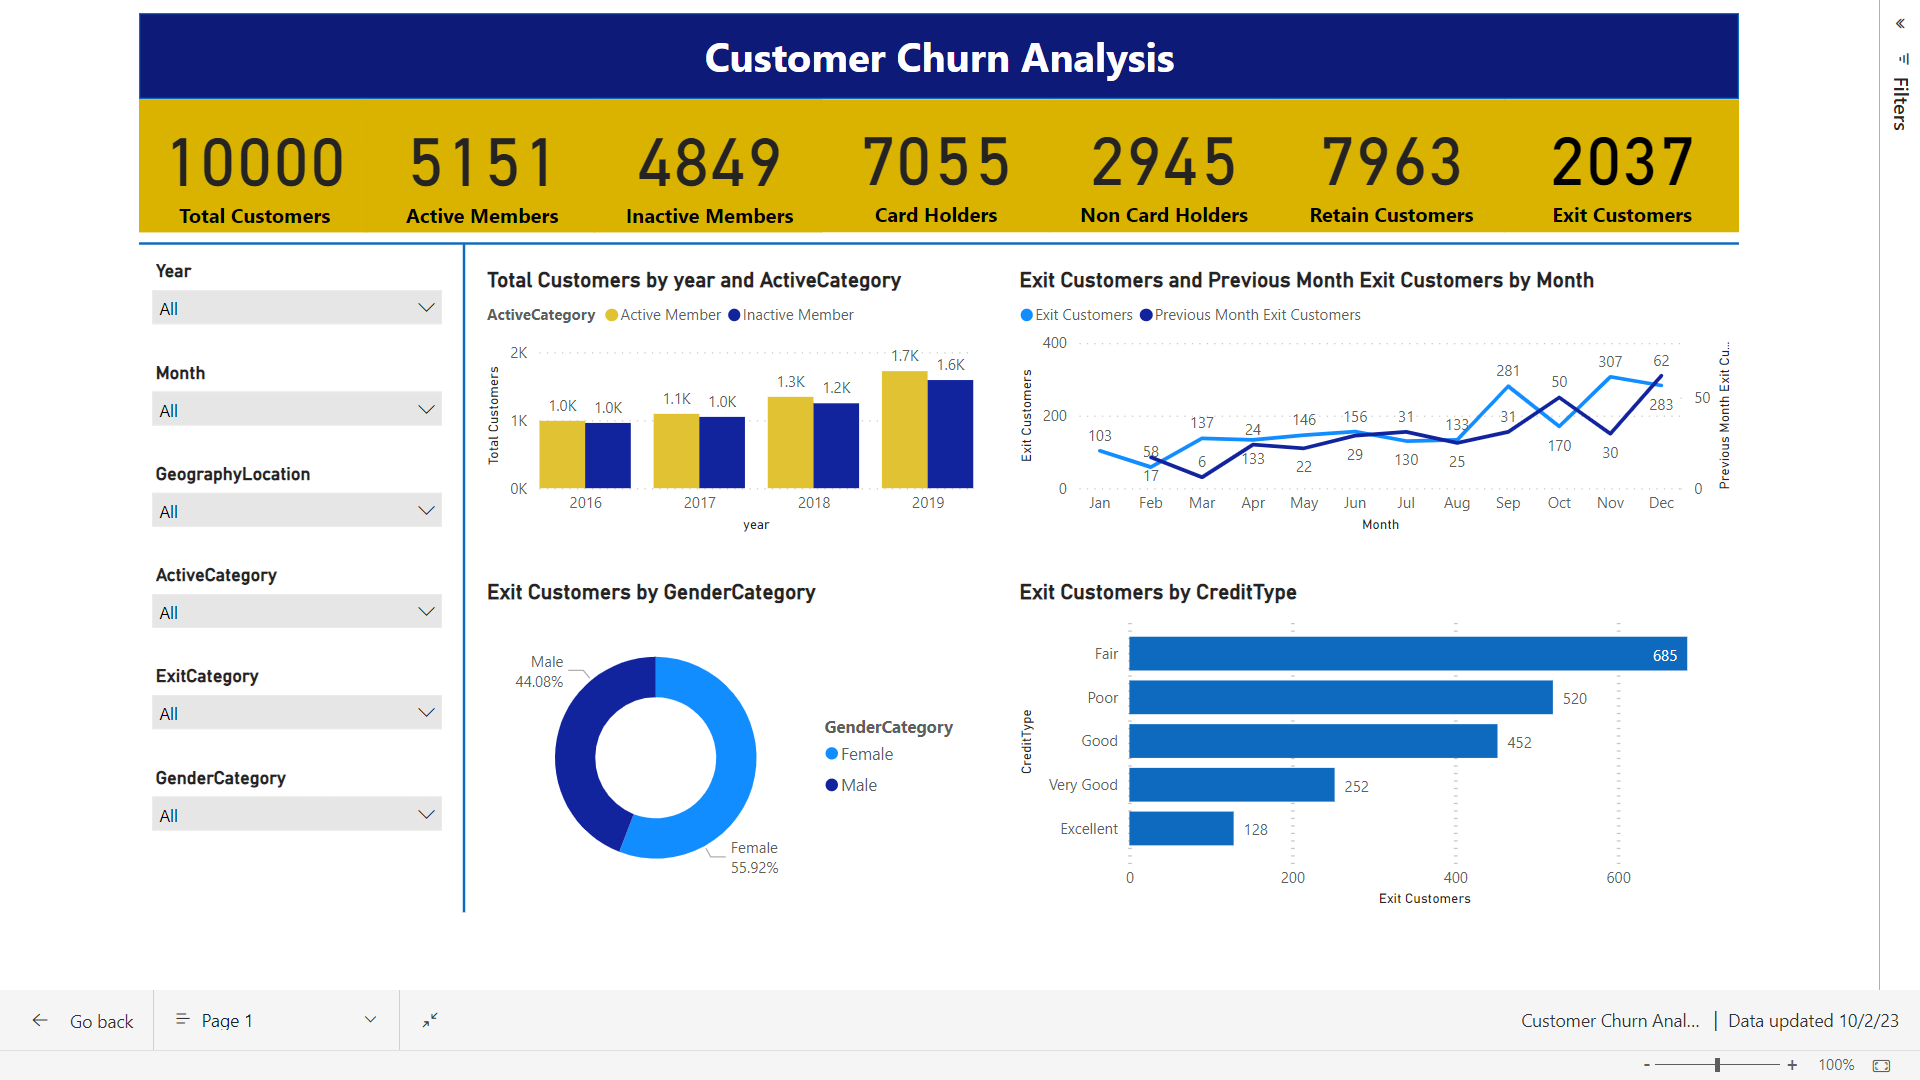

The dashboard page shown, as its layout file describes it:
{"tool":"powerbi","page":{"name":"Page 1","canvas":[1280,720],"ordinal":0},"visuals":[{"type":"card","fields":{"Values":["Calculations.Total Customers"]},"box":[0,69.1,182.4,107.3],"z":0},{"type":"card","fields":{"Values":["Calculations.Active Members"]},"box":[182.4,69.1,181.2,107.3],"z":1000},{"type":"card","fields":{"Values":["Calculations.Inactive Members"]},"box":[363.6,69.1,182.4,107.3],"z":2000},{"type":"shape","box":[0,0,1280.2,69.1],"z":3000},{"type":"card","fields":{"Values":["Calculations.Card Holders"]},"box":[545.9,69.1,182.4,107.3],"z":4000},{"type":"card","fields":{"Values":["Calculations.Non Card Holders"]},"box":[728.3,69.1,182.4,107.3],"z":5000},{"type":"card","fields":{"Values":["Calculations.Exit Customers"]},"box":[1091.9,69.1,188.3,107.3],"z":6000},{"type":"card","fields":{"Values":["Calculations.Retain Customers"]},"box":[910.7,69.1,181.2,107.3],"z":7000},{"type":"shape","box":[0,176.4,1280.2,16.7],"z":8000},{"type":"shape","box":[0,184.8,519.7,535.2],"z":9000},{"type":"slicer","fields":{"Values":["DateMaster.year"]},"box":[0,193.1,251.5,81.1],"z":10000},{"type":"slicer","fields":{"Values":["DateMaster.month_name"]},"box":[0,274.2,251.5,81.1],"z":11000},{"type":"slicer","fields":{"Values":["Geography.GeographyLocation"]},"box":[0,355.2,251.5,81.1],"z":12000},{"type":"slicer","fields":{"Values":["ActiveCustomer.ActiveCategory"]},"box":[0,436.3,251.5,81.1],"z":13000},{"type":"slicer","fields":{"Values":["ExitCustomer.ExitCategory"]},"box":[0,517.3,251.5,81.1],"z":14000},{"type":"slicer","fields":{"Values":["Gender.GenderCategory"]},"box":[0,598.4,251.5,81.1],"z":15000},{"type":"clusteredColumnChart","fields":{"Category":["DateMaster.year","DateMaster.month_name"],"Y":["Calculations.Total Customers"],"Series":["ActiveCustomer.ActiveCategory"]},"box":[273,202.6,399.3,216.9],"z":16000},{"type":"lineChart","fields":{"Category":["DateMaster.month_name"],"Y2":["Calculations.Previous Month Exit Customers"],"Y":["Calculations.Exit Customers"]},"box":[698.5,202.6,581.7,216.9],"z":16001},{"type":"donutChart","fields":{"Y":["Calculations.Exit Customers"],"Category":["Gender.GenderCategory"]},"box":[273,453,399.3,267],"z":16002},{"type":"clusteredBarChart","fields":{"Y":["Calculations.Exit Customers"],"Category":["Bank_Churn.CreditType"]},"box":[698.5,453,581.7,267],"z":16003}]}

Visuals, with their boxes on the page's 1280x720 design canvas (x1, y1, x2, y2). These are canvas units, not pixel positions in the 1920x1080 screenshot, which may show the page scaled, cropped or inside an application window:
card - Calculations.Total Customers: x1=0, y1=69, x2=182, y2=176
card - Calculations.Active Members: x1=182, y1=69, x2=364, y2=176
card - Calculations.Inactive Members: x1=364, y1=69, x2=546, y2=176
shape: x1=0, y1=0, x2=1280, y2=69
card - Calculations.Card Holders: x1=546, y1=69, x2=728, y2=176
card - Calculations.Non Card Holders: x1=728, y1=69, x2=911, y2=176
card - Calculations.Exit Customers: x1=1092, y1=69, x2=1280, y2=176
card - Calculations.Retain Customers: x1=911, y1=69, x2=1092, y2=176
shape: x1=0, y1=176, x2=1280, y2=193
shape: x1=0, y1=185, x2=520, y2=720
slicer - DateMaster.year: x1=0, y1=193, x2=252, y2=274
slicer - DateMaster.month_name: x1=0, y1=274, x2=252, y2=355
slicer - Geography.GeographyLocation: x1=0, y1=355, x2=252, y2=436
slicer - ActiveCustomer.ActiveCategory: x1=0, y1=436, x2=252, y2=517
slicer - ExitCustomer.ExitCategory: x1=0, y1=517, x2=252, y2=598
slicer - Gender.GenderCategory: x1=0, y1=598, x2=252, y2=680
clusteredColumnChart - DateMaster.year x DateMaster.month_name: x1=273, y1=203, x2=672, y2=420
lineChart - DateMaster.month_name x Calculations.Previous Month Exit Customers: x1=698, y1=203, x2=1280, y2=420
donutChart - Calculations.Exit Customers x Gender.GenderCategory: x1=273, y1=453, x2=672, y2=720
clusteredBarChart - Calculations.Exit Customers x Bank_Churn.CreditType: x1=698, y1=453, x2=1280, y2=720
